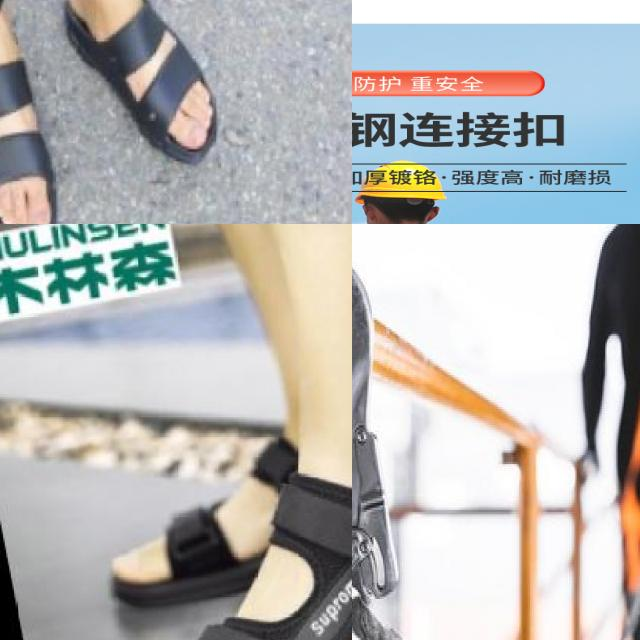Harness: (623, 402, 640, 589)
Sandals: (132, 382, 352, 640), (65, 0, 219, 166), (0, 0, 58, 224)
